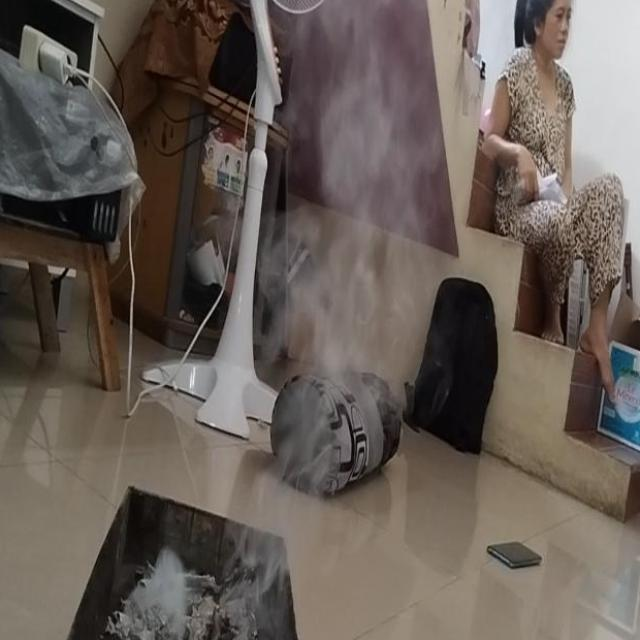fire: (295, 0, 438, 406)
